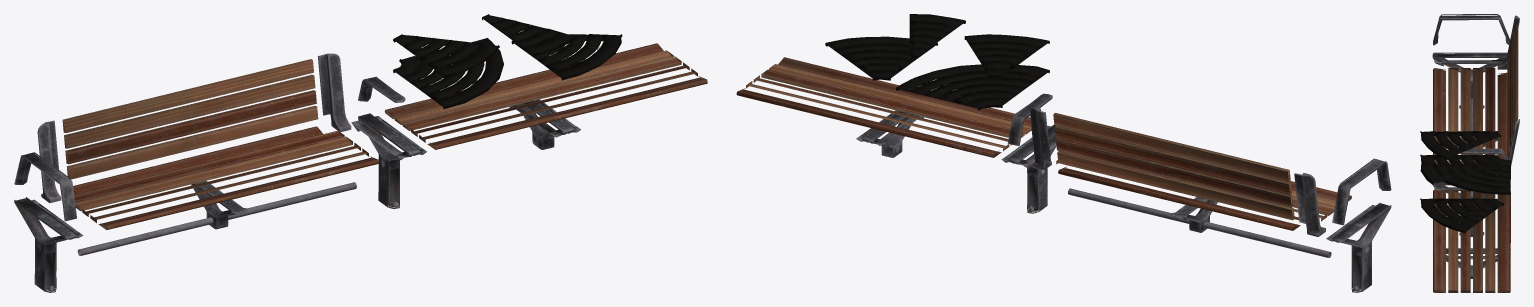
Rendered from seating-medium.glb.
3 views of the same model, side by side, from view 1: azimuth 30°, elevation 25°; view 2: azimuth 150°, elevation 25°; view 3: azimuth 270°, elevation 25° (orthographic). The views are drawn at different scales.
Visible parts, largest first — view 1: seat_back baked, seat baked, seat_bench baked, connector_90 baked, legs_double baked, legs_single baked, connector_45 baked, connector_60 baked, crossbar baked, connector_30 baked, back_support_l baked, arm_rest_01 baked (+4 smaller); view 2: seat_back baked, seat_bench baked, connector_90 baked, seat baked, connector_60 baked, legs_single baked, connector_45 baked, crossbar baked, legs_double baked, connector_30 baked, arm_rest_01 baked, back_support_r baked (+4 smaller); view 3: seat_bench baked, seat baked, connector_90 baked, connector_60 baked, connector_45 baked, seat_back baked, legs_single baked, connector_30 baked, arm_rest_01 baked, arm_rest_02 baked, legs_double baked, back_support_r baked (+3 smaller).
Boxes of the visible parts, x1,y1,x2,y2 form: seat_back baked: (62, 59, 318, 179); seat baked: (73, 126, 378, 229); seat_bench baked: (384, 43, 707, 149); connector_90 baked: (393, 38, 503, 109); legs_double baked: (351, 113, 426, 208); legs_single baked: (14, 197, 83, 292); connector_45 baked: (393, 34, 499, 78); connector_60 baked: (511, 34, 622, 80); crossbar baked: (77, 182, 356, 255); connector_30 baked: (482, 14, 576, 56); back_support_l baked: (318, 53, 351, 132); arm_rest_01 baked: (14, 152, 76, 221); seat_back baked: (1053, 113, 1294, 220); seat_bench baked: (736, 57, 1031, 157); connector_90 baked: (896, 64, 1049, 110); seat baked: (1056, 160, 1351, 230); connector_60 baked: (825, 36, 937, 80); legs_single baked: (1326, 203, 1391, 292); connector_45 baked: (964, 34, 1049, 78); crossbar baked: (1068, 188, 1331, 257); legs_double baked: (1001, 124, 1057, 213); connector_30 baked: (909, 14, 965, 58); arm_rest_01 baked: (1332, 158, 1391, 225); back_support_r baked: (1294, 173, 1325, 236); seat_bench baked: (1433, 189, 1510, 292); seat baked: (1433, 68, 1508, 164); connector_90 baked: (1420, 154, 1510, 194); connector_60 baked: (1420, 198, 1503, 233); connector_45 baked: (1420, 131, 1501, 160); seat_back baked: (1507, 24, 1518, 157); legs_single baked: (1432, 52, 1507, 108); connector_30 baked: (1420, 164, 1499, 184); arm_rest_01 baked: (1433, 14, 1509, 45); arm_rest_02 baked: (1460, 148, 1507, 159); legs_double baked: (1433, 181, 1485, 236); back_support_r baked: (1497, 15, 1519, 69).
Size of the model in its own units: 4.33 by 0.95 by 0.7672.
5 materials, 5 textured.
